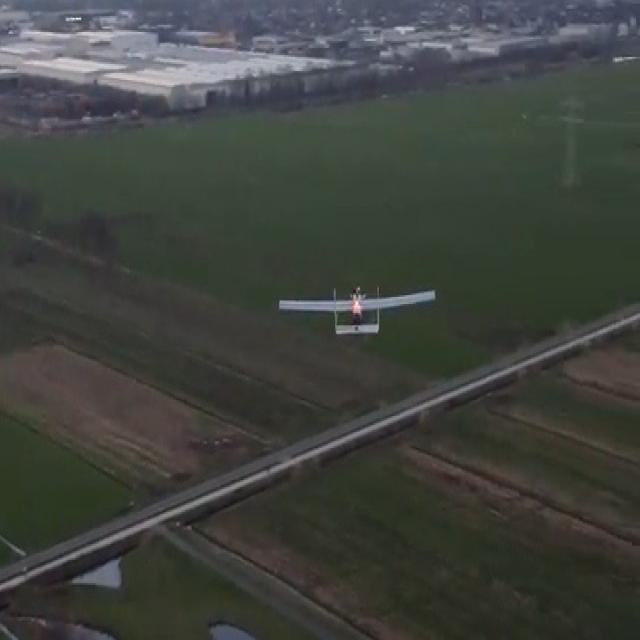iha: (278, 282, 438, 340)
